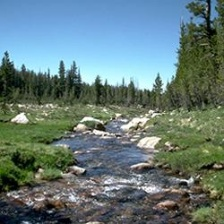neutral: (3, 1, 223, 221)
